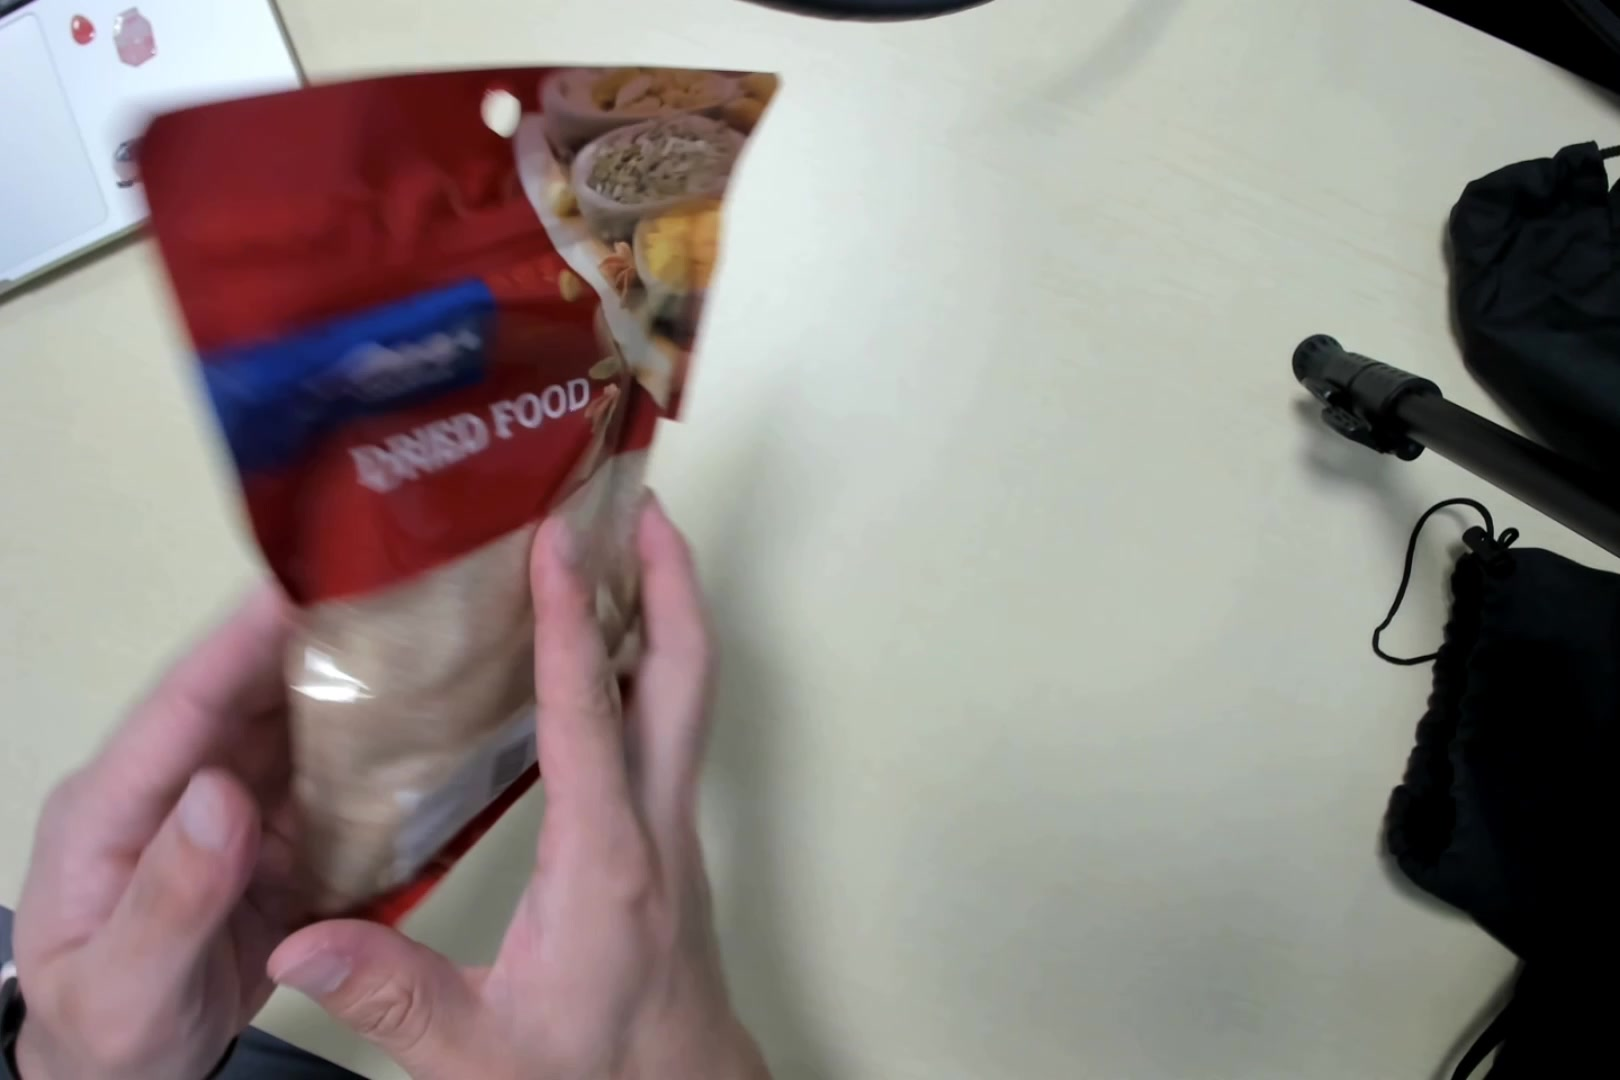Suger_200-299g_Halal_NonHealthy: (125, 61, 763, 962)
